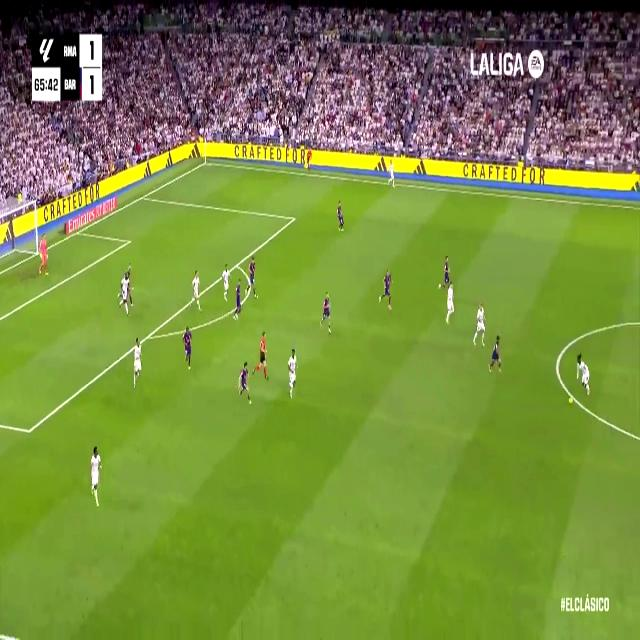bigarea_bottom_inner: (24, 418, 34, 442)
bigarea_top_inner: (290, 212, 296, 224)
bigarea_top_outter: (139, 190, 147, 202)
bottom_arc_area_intersection: (144, 326, 153, 344)
smallarea_top_inner: (127, 237, 131, 246)
top_arc_area_intersection: (233, 257, 240, 271)
